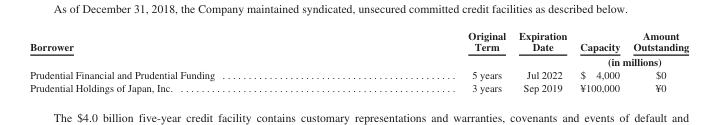table: (29, 29, 688, 93)
table column: (29, 29, 340, 93), (340, 29, 511, 93), (625, 29, 688, 93), (511, 29, 572, 93), (572, 29, 625, 93)
table column header: (29, 29, 688, 68)
table row: (29, 29, 688, 53), (29, 53, 688, 68), (29, 68, 688, 81), (29, 81, 688, 93)
table spanning cell: (29, 29, 340, 68), (340, 29, 511, 68), (511, 29, 572, 68), (572, 53, 688, 68)
